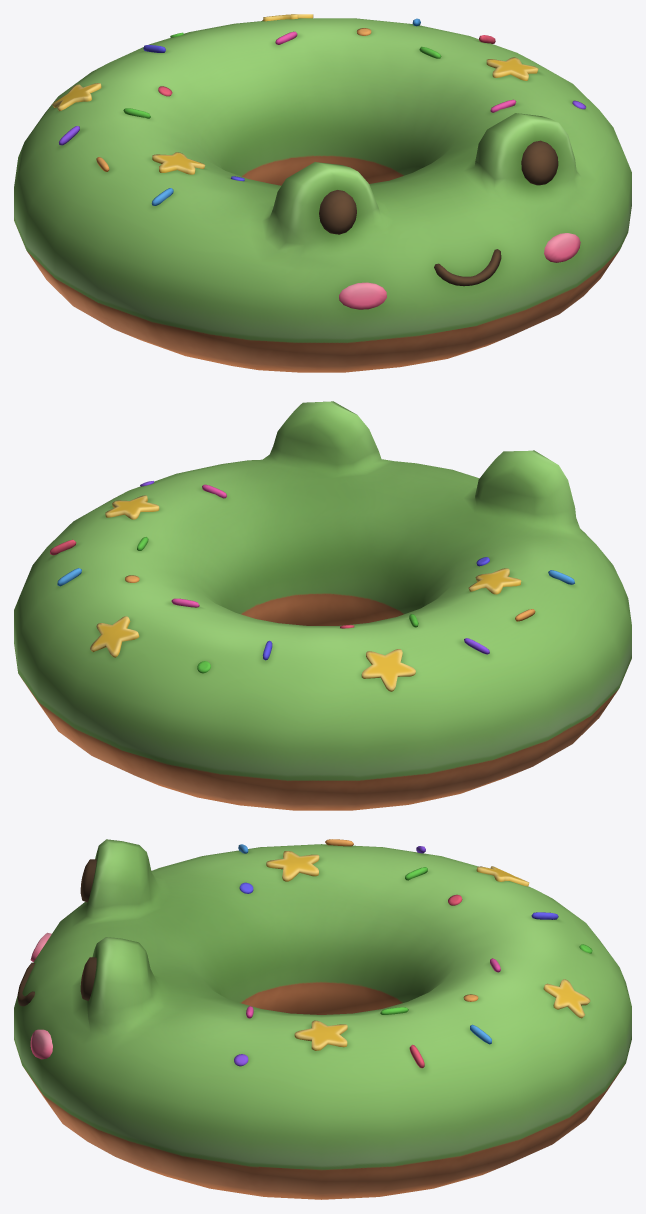
Rendered from DonutFrog.fbx.
The picture shows the model from 3 angles, top to bottom: view 1: azimuth 30°, elevation 25°; view 2: azimuth 150°, elevation 25°; view 3: azimuth 270°, elevation 25°; orthographic projection.
Parts seen in each view (by area): view 1: DonutFrog; view 2: DonutFrog; view 3: DonutFrog.
Boxes of the visible parts, x1,y1,x2,y2 form: DonutFrog: (14, 14, 631, 372); DonutFrog: (14, 401, 631, 810); DonutFrog: (14, 839, 631, 1199).
Bounding box in the file's own units: 0.2783 × 0.1041 × 0.2782.
